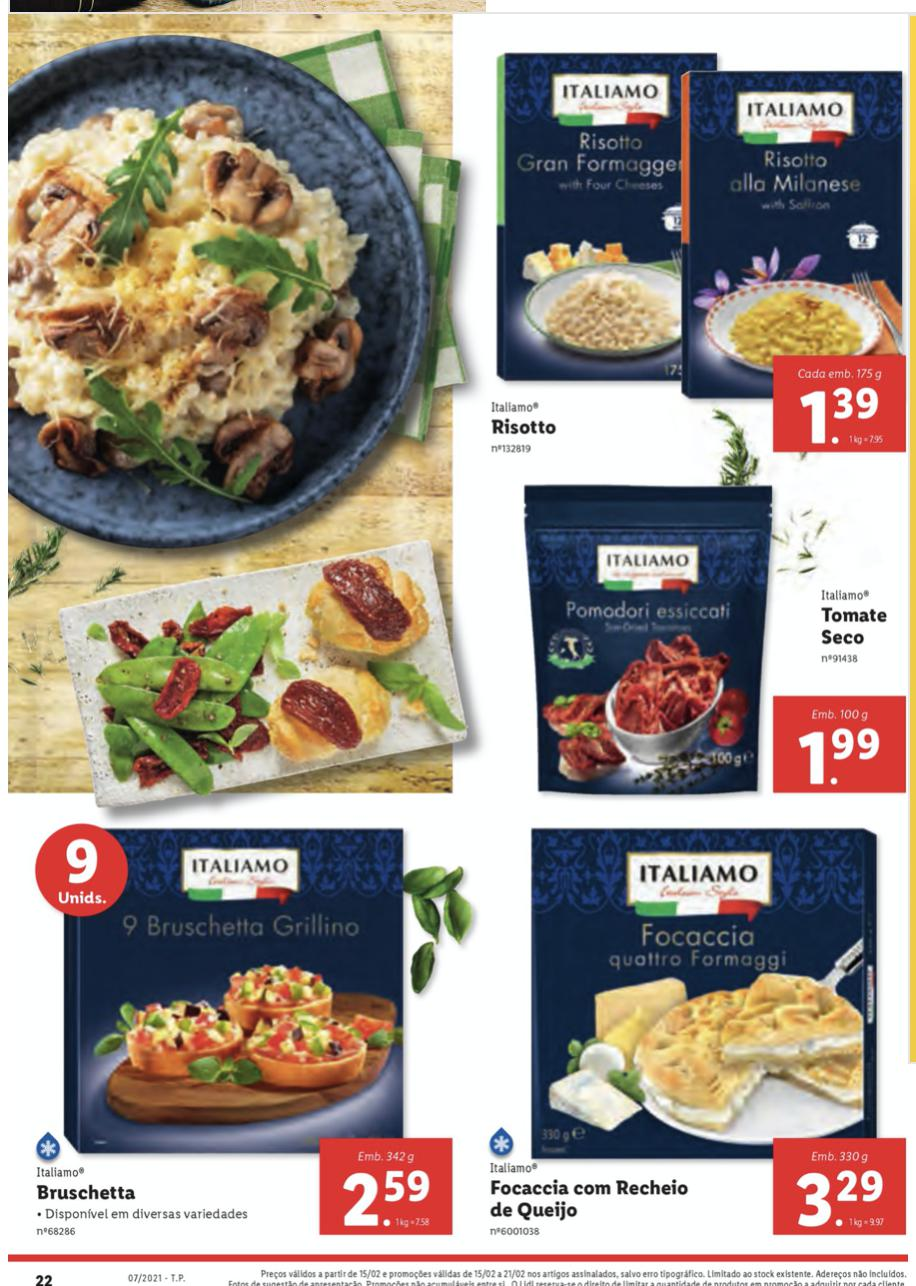name: (484, 1174, 694, 1226), (813, 604, 892, 647), (34, 1182, 143, 1209), (486, 413, 561, 440)
price: (789, 1147, 896, 1237), (788, 364, 899, 450), (337, 1150, 432, 1236), (799, 723, 881, 793)
product: (467, 794, 899, 1244), (472, 39, 908, 479), (27, 813, 467, 1244), (469, 479, 910, 794)
